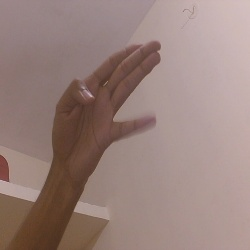hand: (58, 27, 166, 165)
